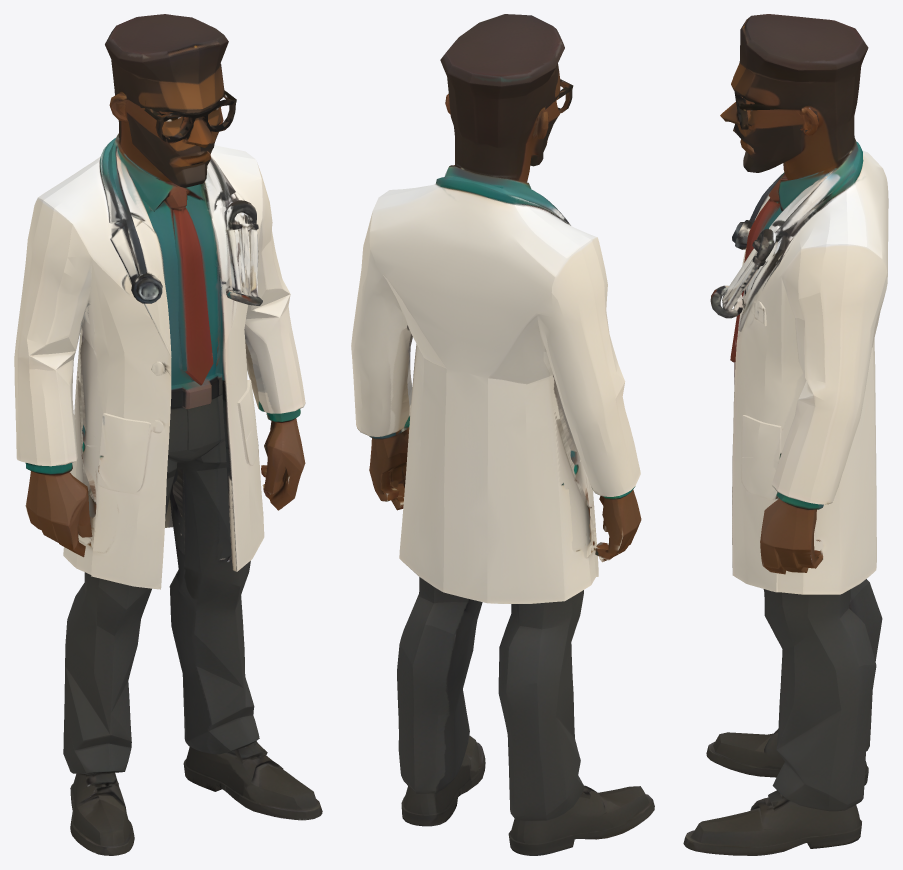
File: base_basic_shaded.glb
The picture shows the model from 3 angles, left to right: view 1: azimuth 30°, elevation 25°; view 2: azimuth 150°, elevation 25°; view 3: azimuth 270°, elevation 25°; orthographic projection.
Parts seen in each view (by area): view 1: model; view 2: model; view 3: model.
Boxes of the visible parts, x1,y1,x2,y2 form: model: [14, 14, 322, 855]; model: [351, 14, 654, 855]; model: [683, 14, 888, 855].
Bounding box in the file's own units: 0.6462 × 1.74 × 0.4134.
Materials: 1 (1 with a texture image).
